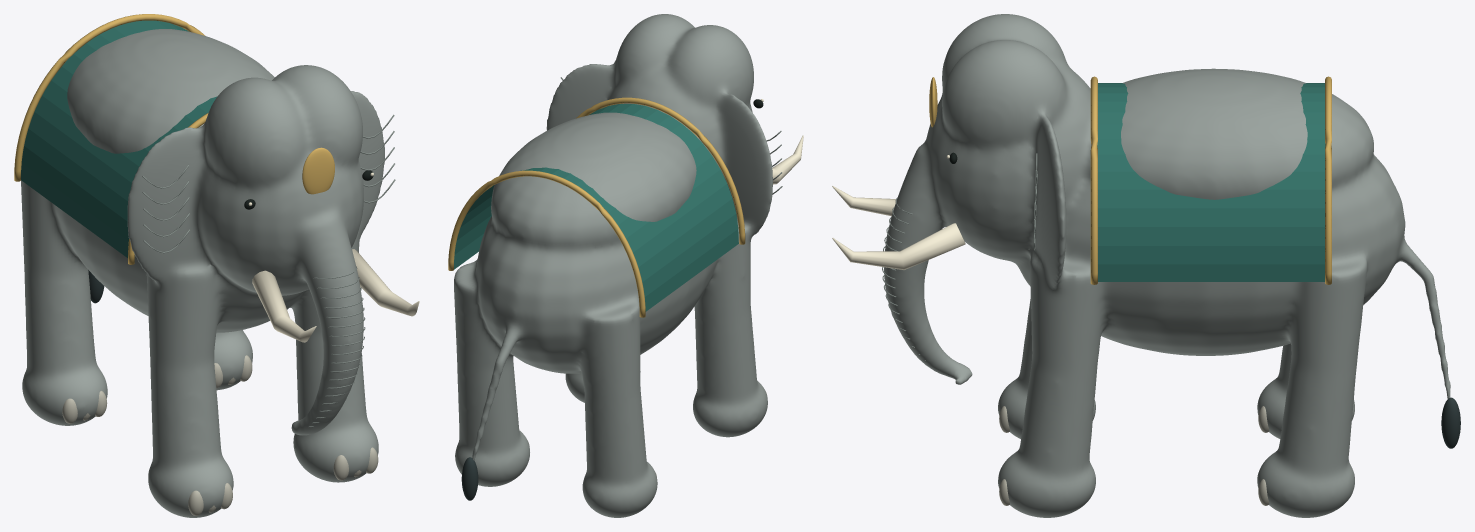
Rendered from elephant.glb.
3 views of the same model, side by side, from view 1: azimuth 30°, elevation 25°; view 2: azimuth 150°, elevation 25°; view 3: azimuth 270°, elevation 25° (orthographic). The views are drawn at different scales.
Parts seen in each view (by area): view 1: elephant_sculpted_skin, spirit_saddle, spirit_gold_border.001, tusk_-1, tusk_1, spirit_forehead; view 2: elephant_sculpted_skin, spirit_saddle, spirit_gold_border.001, spirit_gold_border, tail_tuft, tusk_-1; view 3: elephant_sculpted_skin, spirit_saddle, tusk_1, spirit_gold_border, spirit_gold_border.001, tail_tuft, tusk_-1.
Part boxes in pixels (x1=…): elephant_sculpted_skin: x1=21, y1=29, x2=384, y2=517; spirit_saddle: x1=21, y1=20, x2=217, y2=257; spirit_gold_border.001: x1=14, y1=14, x2=205, y2=181; tusk_-1: x1=252, y1=270, x2=316, y2=342; tusk_1: x1=352, y1=249, x2=419, y2=316; spirit_forehead: x1=302, y1=147, x2=334, y2=194; elephant_sculpted_skin: x1=454, y1=14, x2=772, y2=517; spirit_saddle: x1=454, y1=104, x2=738, y2=311; spirit_gold_border.001: x1=448, y1=170, x2=645, y2=317; spirit_gold_border: x1=576, y1=97, x2=745, y2=244; tail_tuft: x1=461, y1=457, x2=478, y2=500; tusk_-1: x1=772, y1=135, x2=803, y2=184; elephant_sculpted_skin: x1=884, y1=14, x2=1450, y2=517; spirit_saddle: x1=1097, y1=83, x2=1325, y2=281; tusk_1: x1=832, y1=223, x2=965, y2=269; spirit_gold_border: x1=1090, y1=76, x2=1097, y2=284; spirit_gold_border.001: x1=1325, y1=76, x2=1331, y2=284; tail_tuft: x1=1441, y1=397, x2=1460, y2=448; tusk_-1: x1=832, y1=186, x2=895, y2=216.
Bounding box in the file's own units: 1.1 × 1.76 × 2.26.
